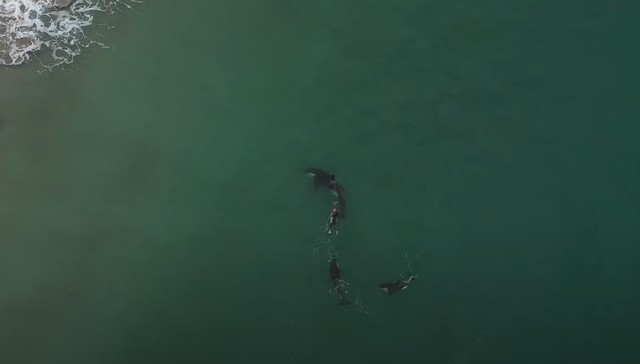whale: (297, 160, 356, 223), (325, 243, 356, 312), (373, 269, 425, 298)
